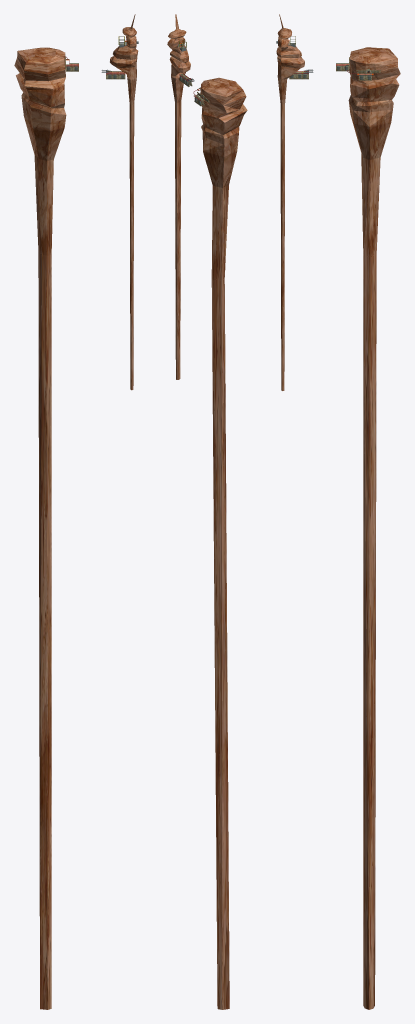
Rendered from STG08_ON_19.obj.
The picture shows the model from 3 angles, left to right: view 1: azimuth 90°, elevation 25°; view 2: azimuth 210°, elevation 25°; view 3: azimuth 270°, elevation 25°; orthographic projection. The views are drawn at different scales.
Parts seen in each view (by area): view 1: Object_2; view 2: Object_2; view 3: Object_2.
Boxes of the visible parts, x1,y1,x2,y2 form: Object_2: [14, 14, 138, 1009]; Object_2: [167, 14, 247, 1009]; Object_2: [276, 14, 400, 1009].
Size of the model in its own units: 1642 by 33925 by 3852.
